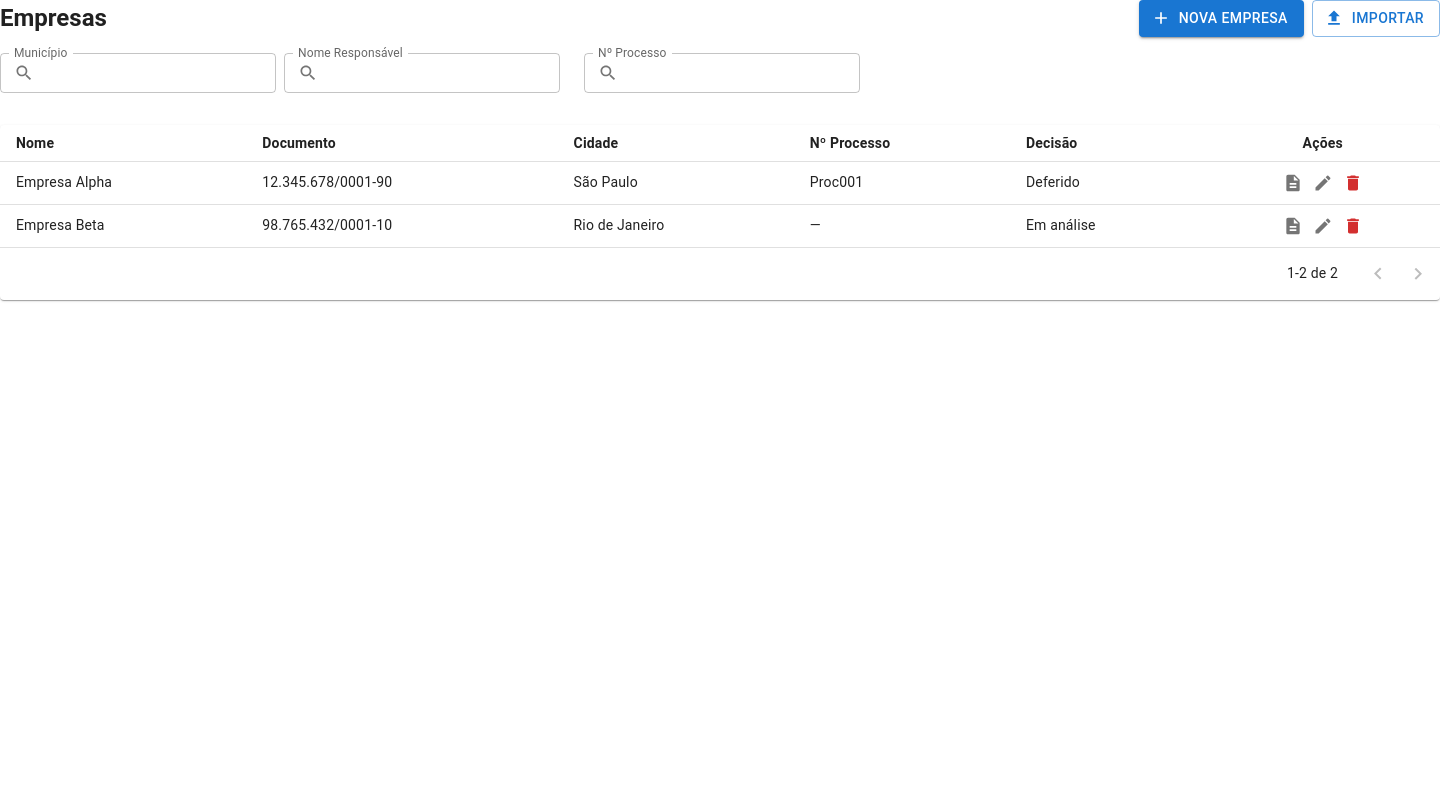
Test: EmpresaLista › abre diálogo de exclusão ao clicar em deletar
Expected: the text "Empresa Alpha" is shown, [0,161,246,204]
Click the button with test id "DeleteIcon".
click(1353, 182)  # box [1338,168,1368,198]
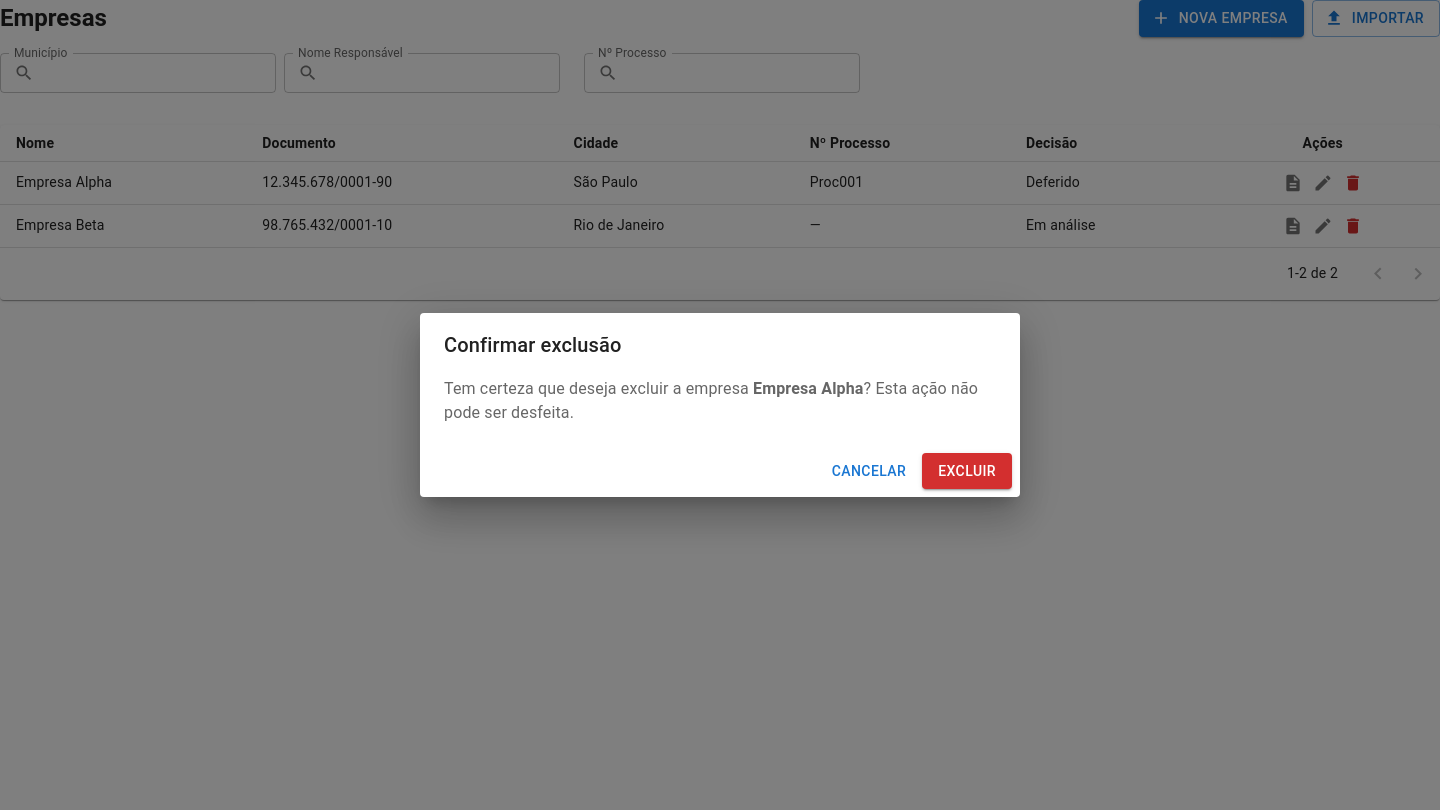
Now the heading "Confirmar exclusão" is shown, box [444,333,622,357]
